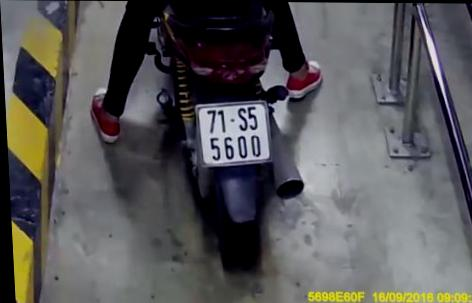License_Plate: (188, 99, 279, 169)
